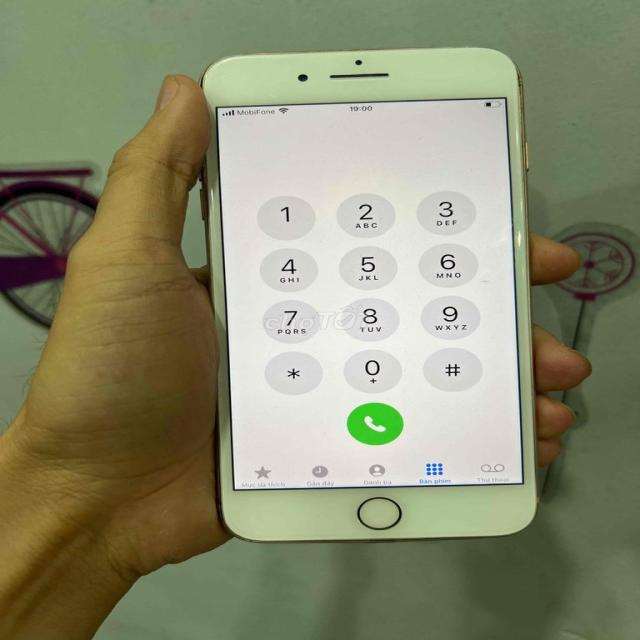physical_damage: (500, 56, 529, 97), (196, 52, 214, 90)
